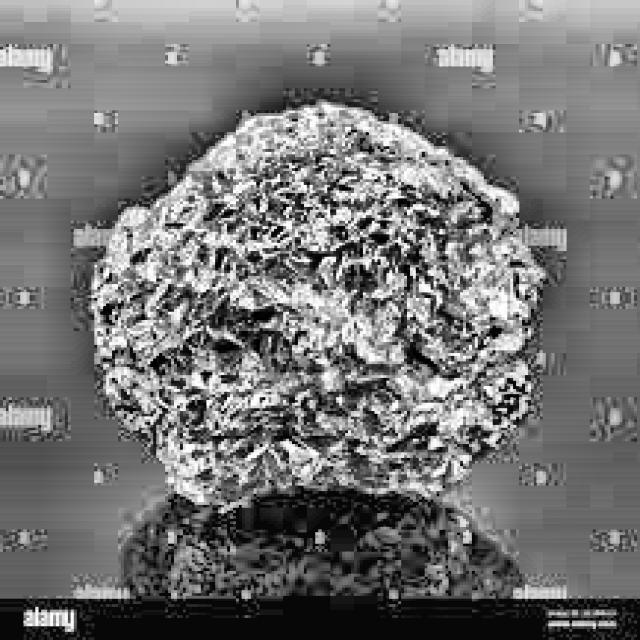Foil: (68, 90, 550, 522)
